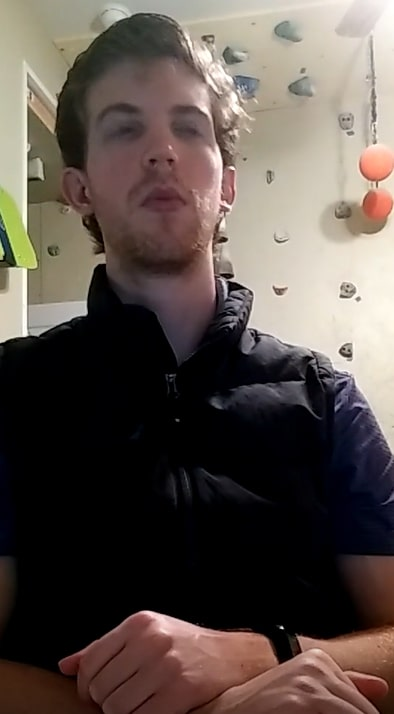Half Asleep: (91, 101, 217, 152)
